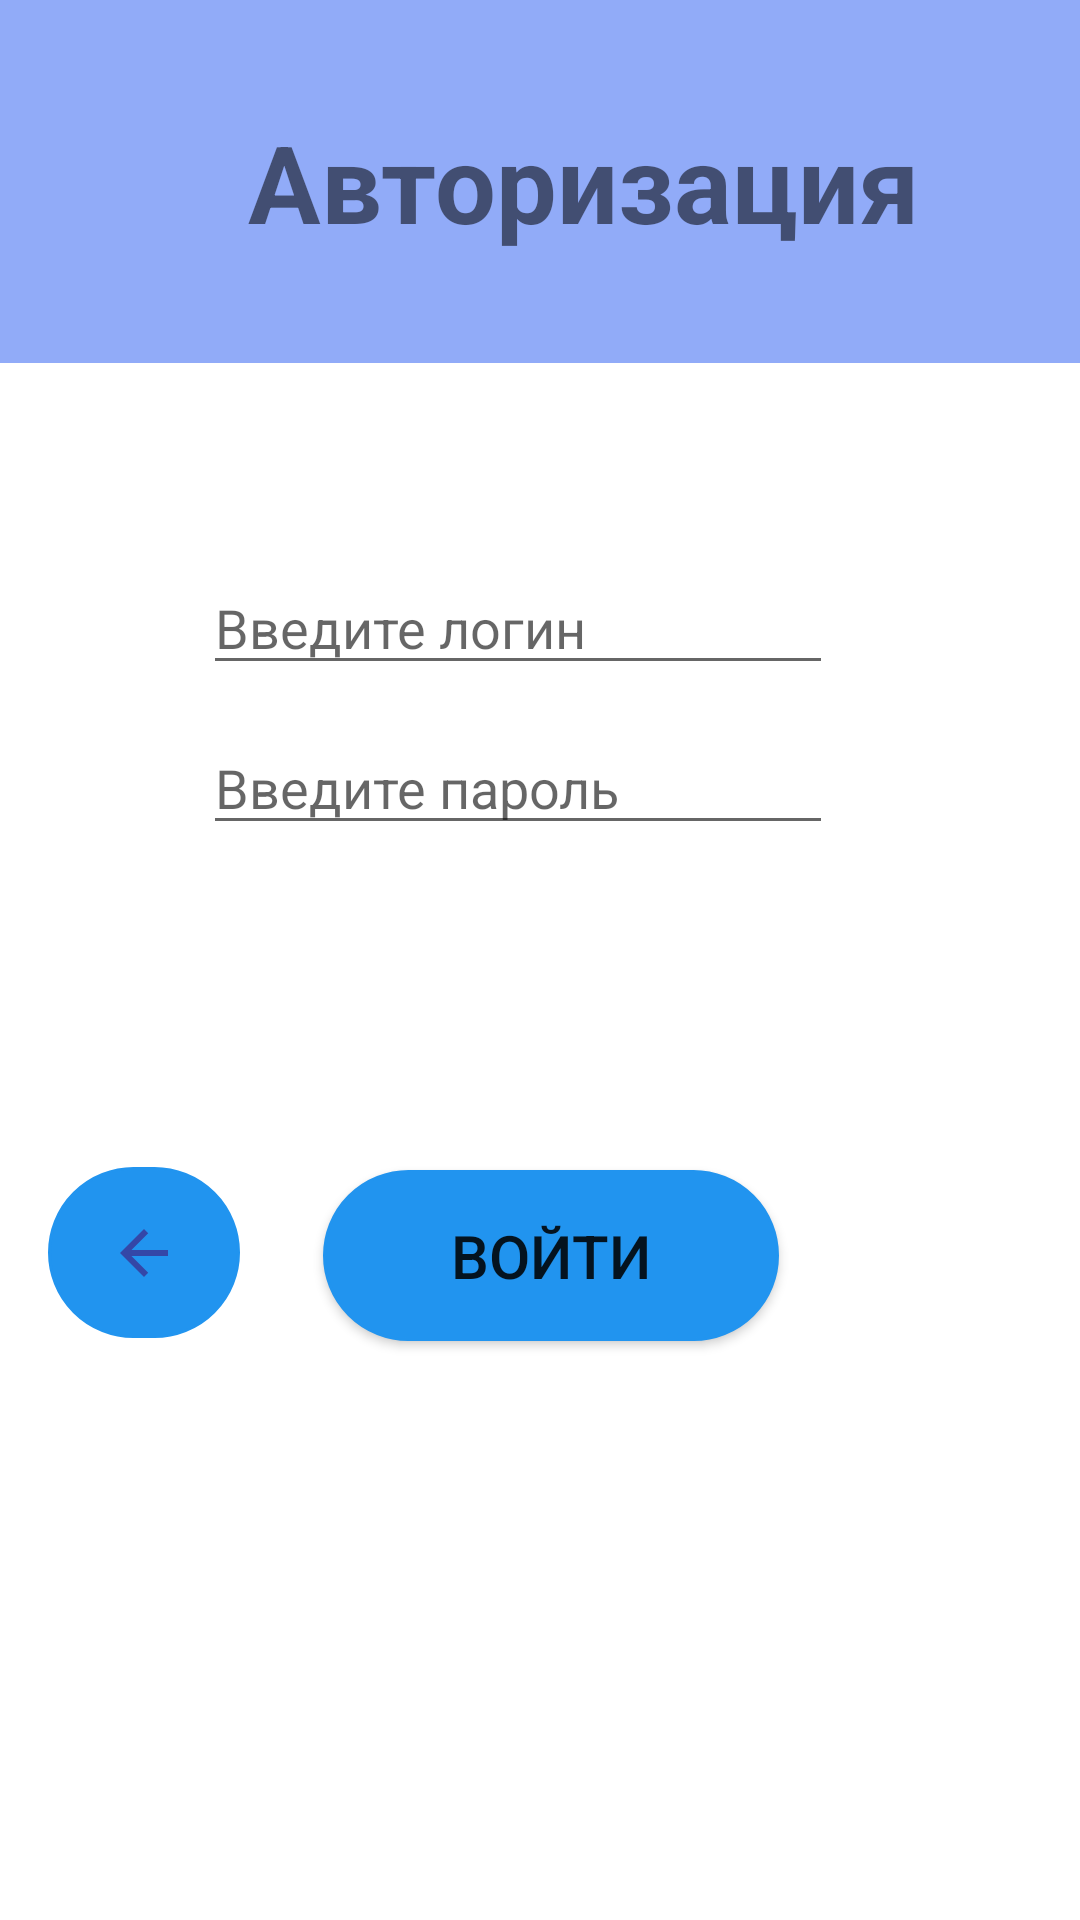

Where to tap for icons on this 1080px x 1920px app screen, as (x=x, y=y):
arrow back: (x=144, y=1252)
